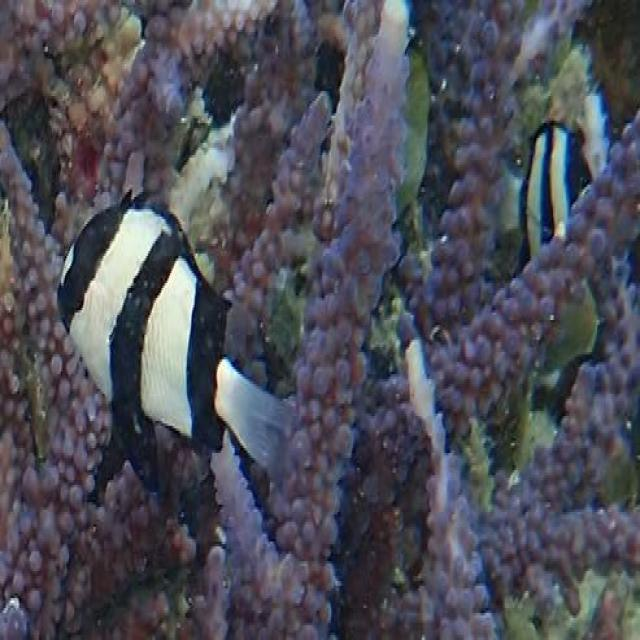ThreeStripedDamselfish: (56, 202, 291, 495)
